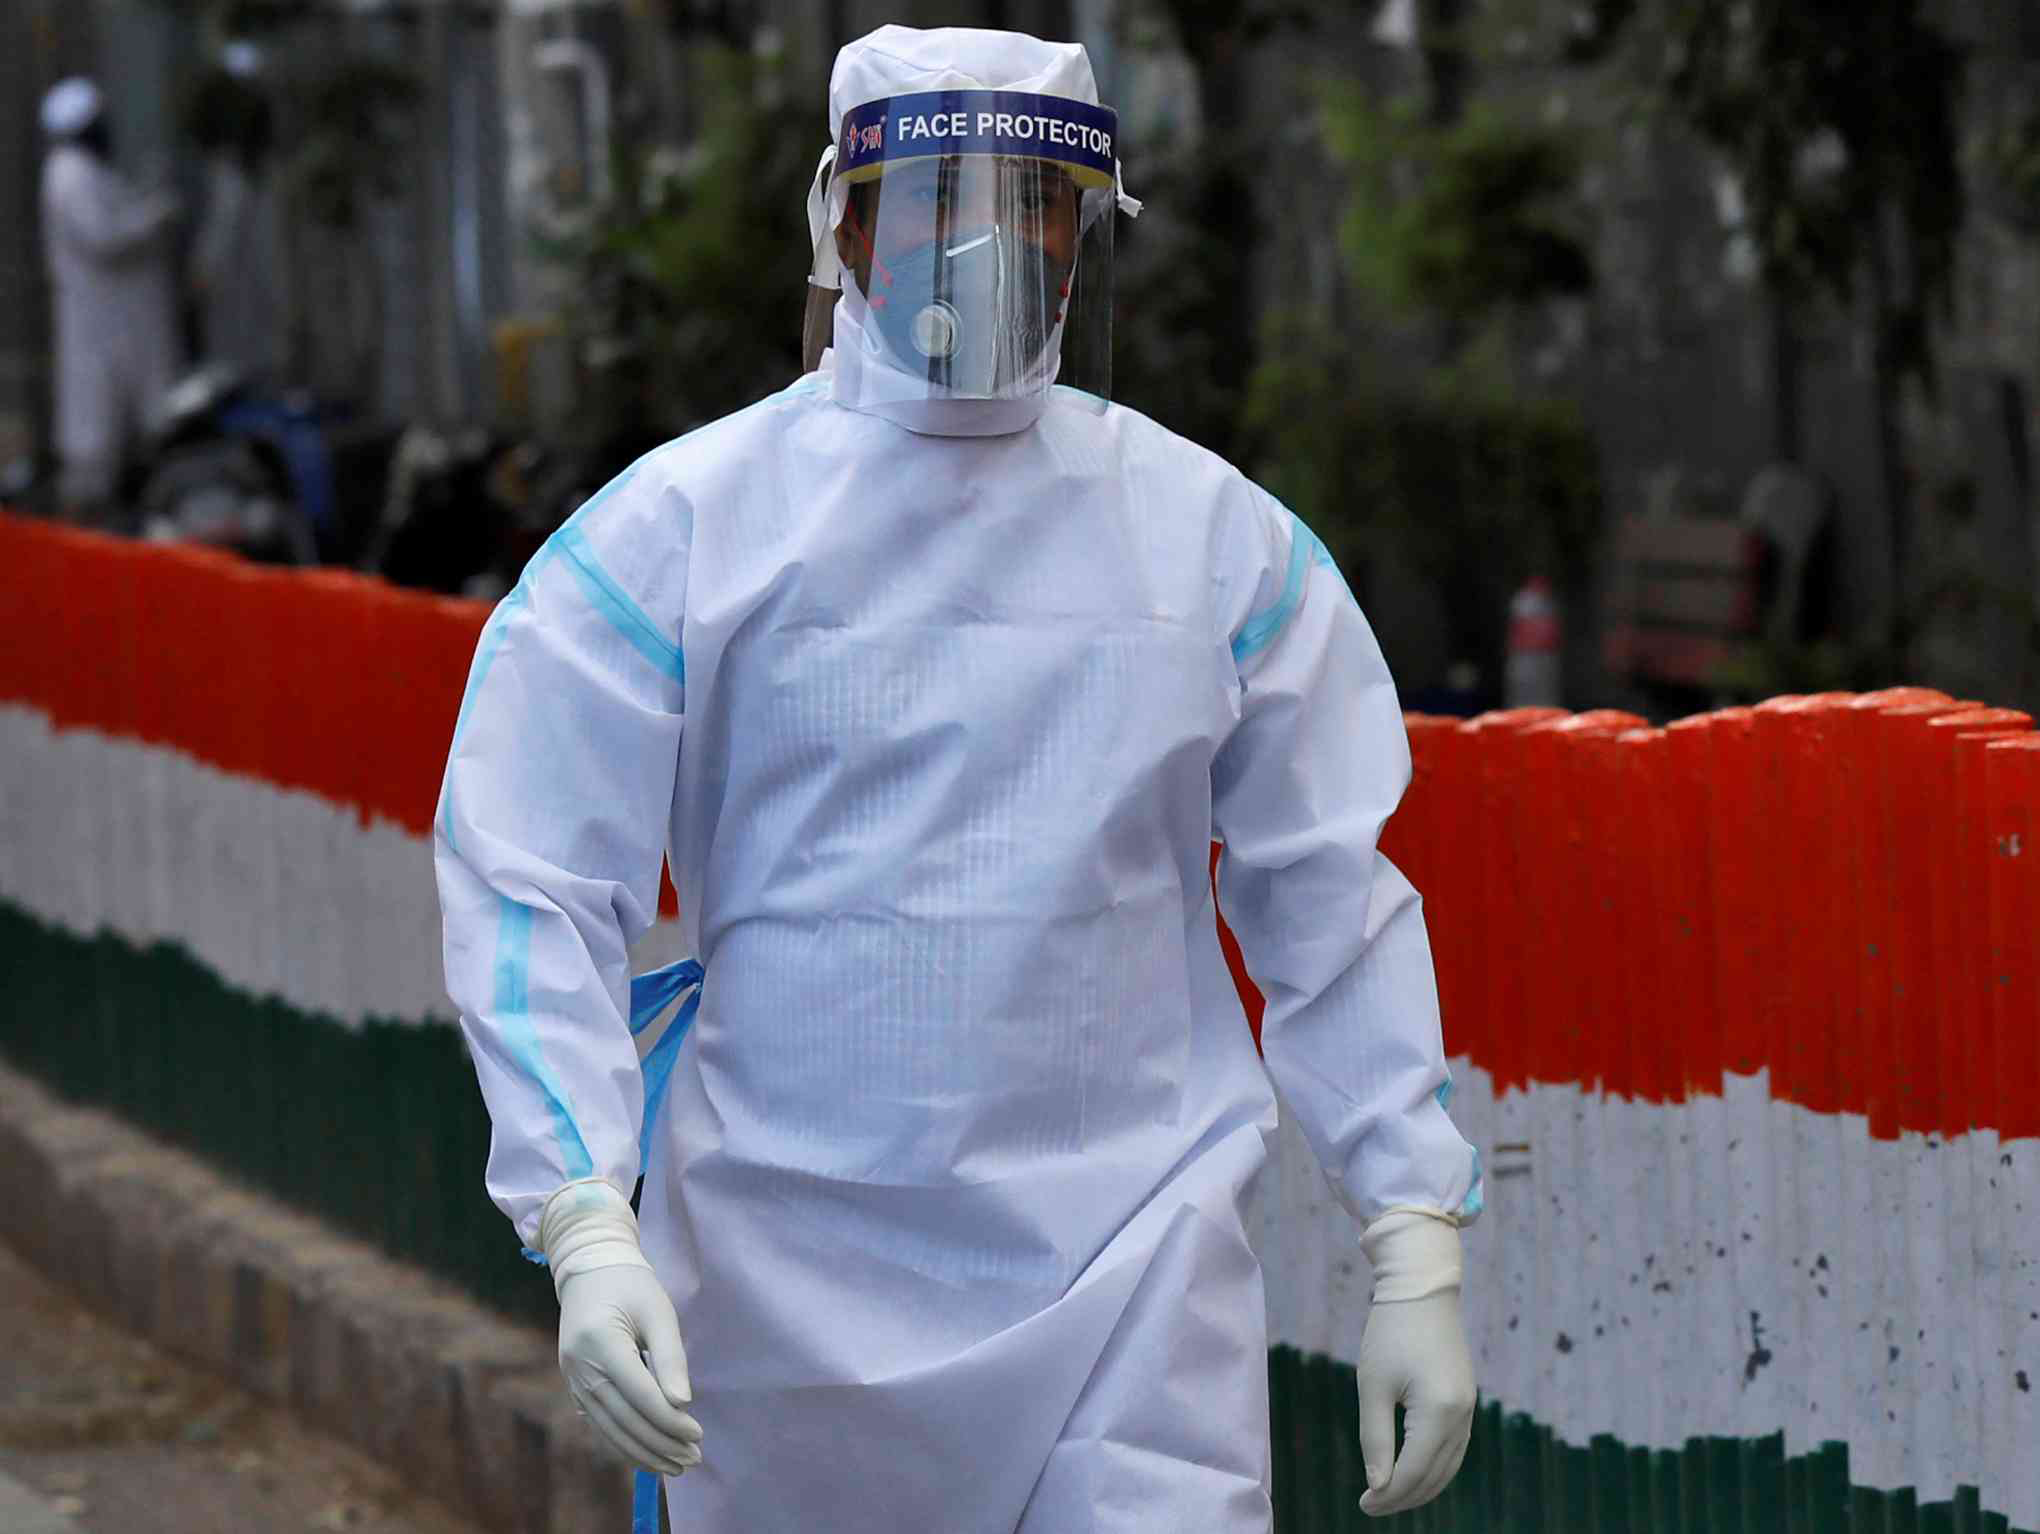Coverall: (442, 27, 1497, 1533)
Face_Shield: (797, 96, 1122, 439)
Gloves: (556, 1210, 709, 1478), (1350, 1268, 1479, 1515)
with_mask: (873, 210, 1068, 392)
